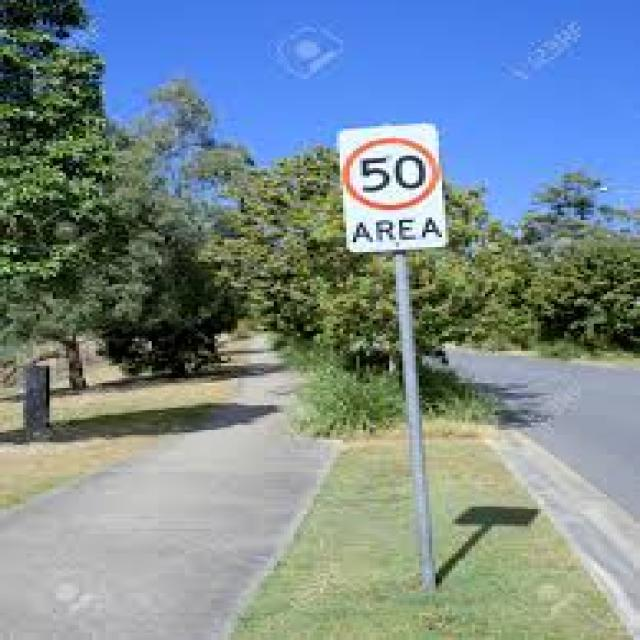Speed limit 50: (341, 135, 440, 209)
